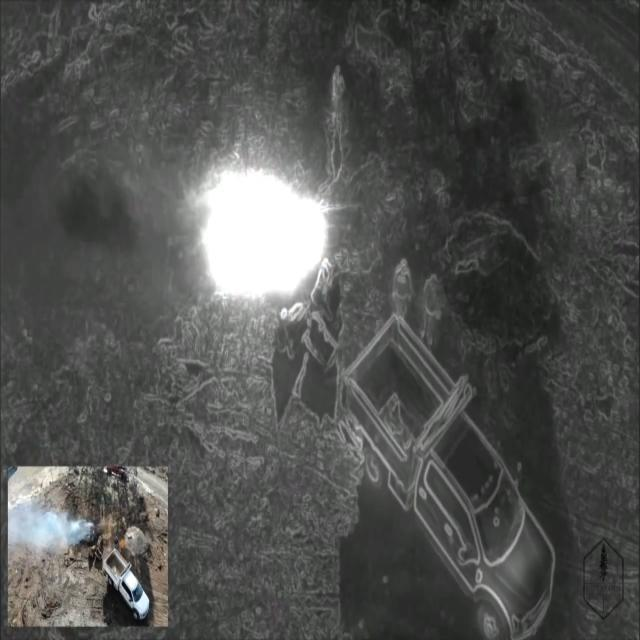fire: (198, 161, 331, 304)
